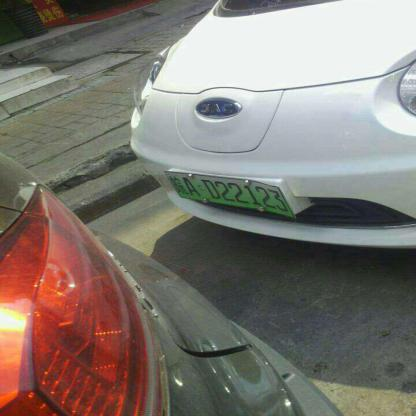lp: (165, 170, 293, 217)
